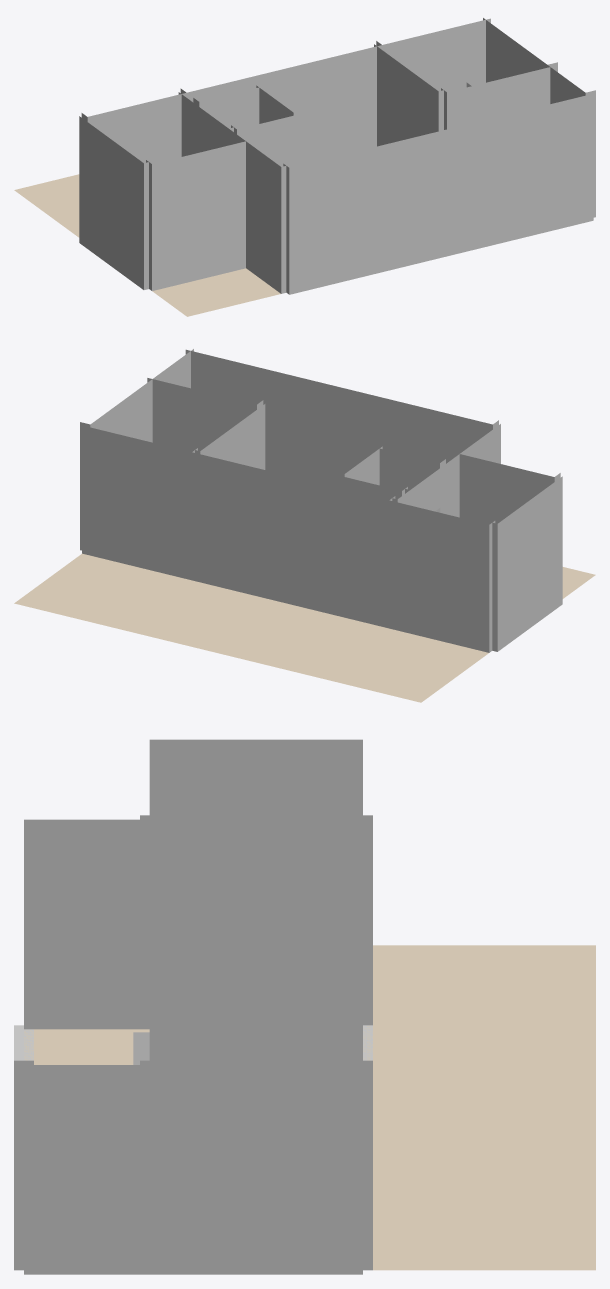
3 renders of one model, top to bottom at view 1: azimuth 30°, elevation 25°; view 2: azimuth 150°, elevation 25°; view 3: azimuth 270°, elevation 25°, orthographic. The views are drawn at different scales.
Visible parts, largest first — view 1: wall_dining_1_north, wall_dining_1_south, wall_entrance_1_north, wall_entrance_1_west, wall_dining_1_west, floor, wall_kitchen_1_west, wall_entrance_1_south, wall_kitchen_1_north, wall_dining_1_east, wall_service_1_north, wall_service_1_south (+3 smaller); view 2: wall_dining_1_south, floor, wall_dining_1_north, wall_entrance_1_south, wall_entrance_1_west, wall_kitchen_1_south, wall_kitchen_1_north, wall_entrance_1_north, wall_dining_1_east, wall_kitchen_1_west, wall_kitchen_1_east, wall_service_1_north (+5 smaller); view 3: floor, wall_dining_1_east, wall_dining_1_west, wall_kitchen_1_east, wall_kitchen_1_west, wall_entrance_1_west, wall_service_1_east, wall_entrance_1_east, wall_service_1_west, wall_dining_1_north, wall_dining_1_south, wall_entrance_1_south (+2 smaller).
Part boxes in pixels (bbox=[...]): wall_dining_1_north: bbox=[283, 93, 593, 294]; wall_dining_1_south: bbox=[180, 18, 490, 163]; wall_entrance_1_north: bbox=[146, 140, 251, 290]; wall_entrance_1_west: bbox=[79, 116, 154, 289]; wall_dining_1_west: bbox=[178, 92, 291, 293]; floor: bbox=[14, 174, 280, 316]; wall_kitchen_1_west: bbox=[374, 44, 448, 146]; wall_entrance_1_south: bbox=[81, 93, 186, 163]; wall_kitchen_1_north: bbox=[441, 66, 555, 129]; wall_dining_1_east: bbox=[483, 18, 595, 217]; wall_service_1_north: bbox=[231, 113, 301, 166]; wall_service_1_south: bbox=[193, 86, 264, 128]; wall_dining_1_south: bbox=[82, 425, 395, 628]; floor: bbox=[14, 553, 595, 702]; wall_dining_1_north: bbox=[185, 349, 498, 486]; wall_entrance_1_south: bbox=[389, 500, 495, 652]; wall_entrance_1_west: bbox=[487, 476, 562, 651]; wall_kitchen_1_south: bbox=[82, 426, 197, 579]; wall_kitchen_1_north: bbox=[147, 378, 263, 451]; wall_entrance_1_north: bbox=[454, 452, 560, 523]; wall_dining_1_east: bbox=[80, 349, 193, 550]; wall_kitchen_1_west: bbox=[189, 404, 265, 469]; wall_kitchen_1_east: bbox=[91, 377, 155, 442]; wall_service_1_north: bbox=[374, 447, 445, 490]; floor: bbox=[24, 945, 595, 1270]; wall_dining_1_east: bbox=[24, 1065, 362, 1274]; wall_dining_1_west: bbox=[24, 819, 362, 1029]; wall_kitchen_1_east: bbox=[149, 1065, 362, 1274]; wall_kitchen_1_west: bbox=[149, 977, 362, 1064]; wall_entrance_1_west: bbox=[149, 739, 362, 819]; wall_service_1_east: bbox=[197, 872, 320, 977]; wall_entrance_1_east: bbox=[149, 819, 362, 977]; wall_service_1_west: bbox=[197, 819, 320, 871]; wall_dining_1_north: bbox=[14, 1025, 33, 1270]; wall_dining_1_south: bbox=[353, 1025, 372, 1270]; wall_entrance_1_south: bbox=[353, 815, 372, 1025].
Bounding box in the file's own units: 9.55 × 2.8 × 7.04.
